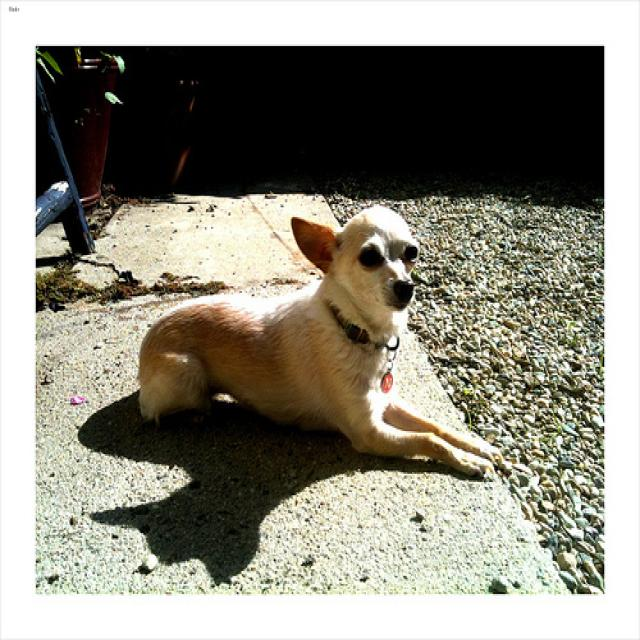dog-chihuahua: (128, 194, 509, 485)
